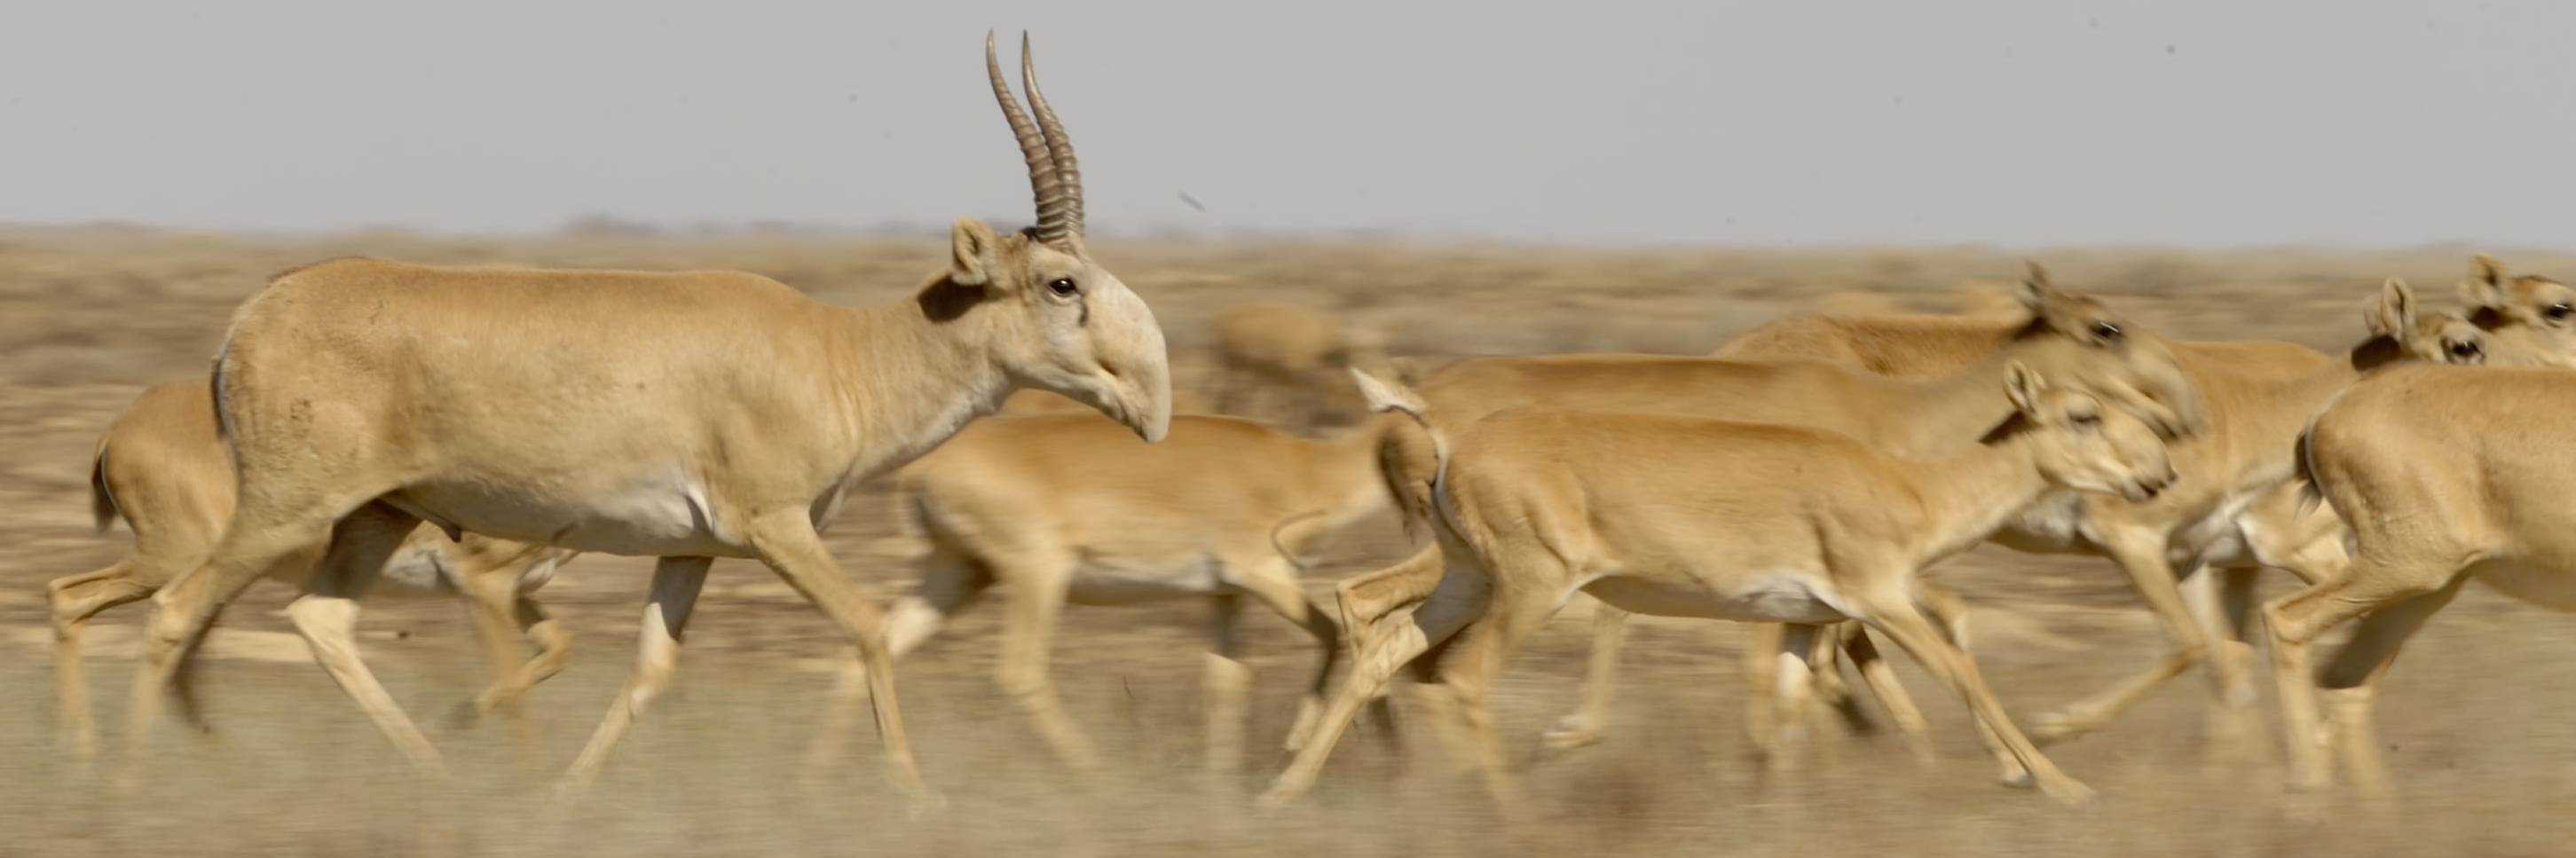saiga: (120, 21, 1180, 807), (1276, 363, 2180, 840)
